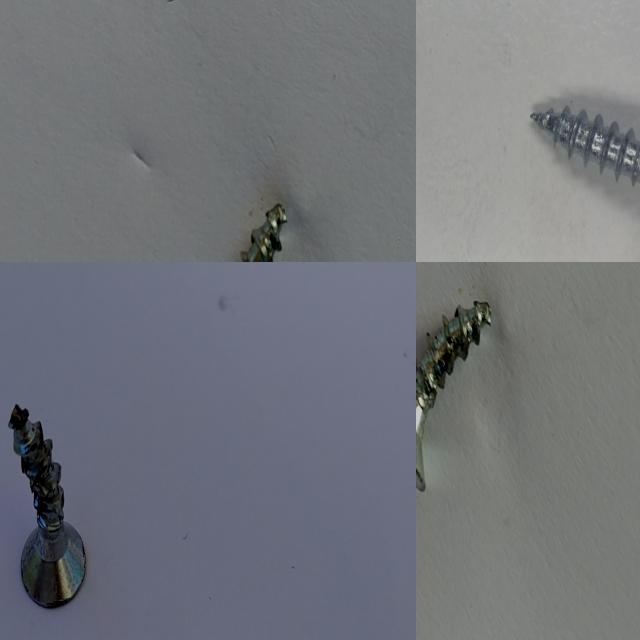Screw: (8, 403, 85, 607), (416, 301, 491, 491), (530, 106, 640, 184)
